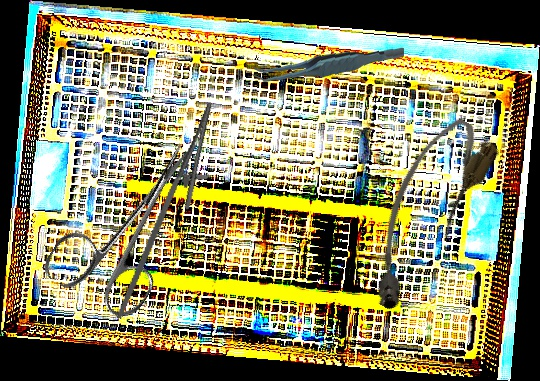Cannula: (342, 108, 505, 319)
Iris Scissors: (38, 116, 228, 329)
Needle Holder: (115, 94, 231, 332)
Tissue Forceps: (251, 36, 405, 92)
